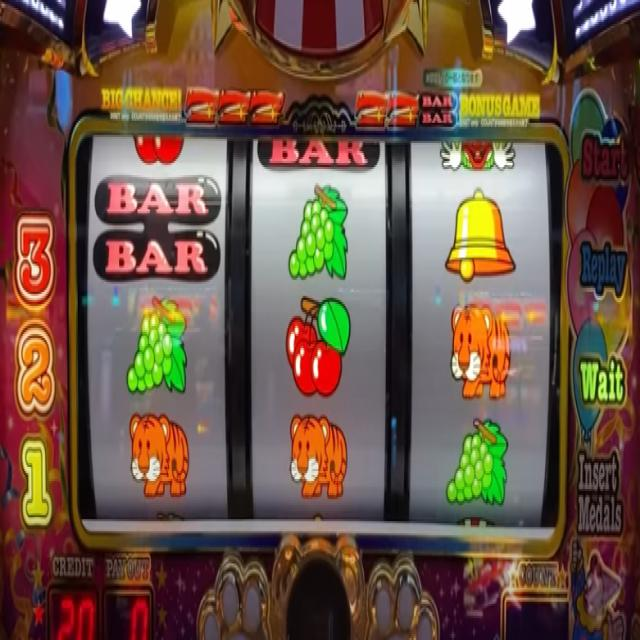bar: (92, 173, 222, 287), (257, 134, 381, 170), (420, 92, 457, 128)
bell: (444, 187, 518, 284)
cherry: (285, 292, 351, 398), (132, 131, 185, 167)
clown: (439, 136, 516, 175)
display: (75, 130, 563, 533)
grape: (125, 294, 188, 400), (288, 180, 348, 282), (444, 415, 508, 507)
tiger: (450, 303, 511, 402), (127, 414, 190, 502), (289, 411, 348, 502)
z: (387, 86, 420, 128), (220, 84, 251, 128), (252, 86, 286, 126), (184, 86, 219, 124), (354, 89, 386, 127)
